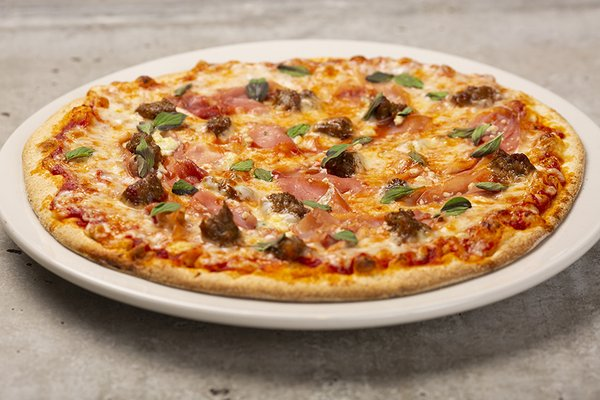sandwich: (17, 54, 597, 302)
